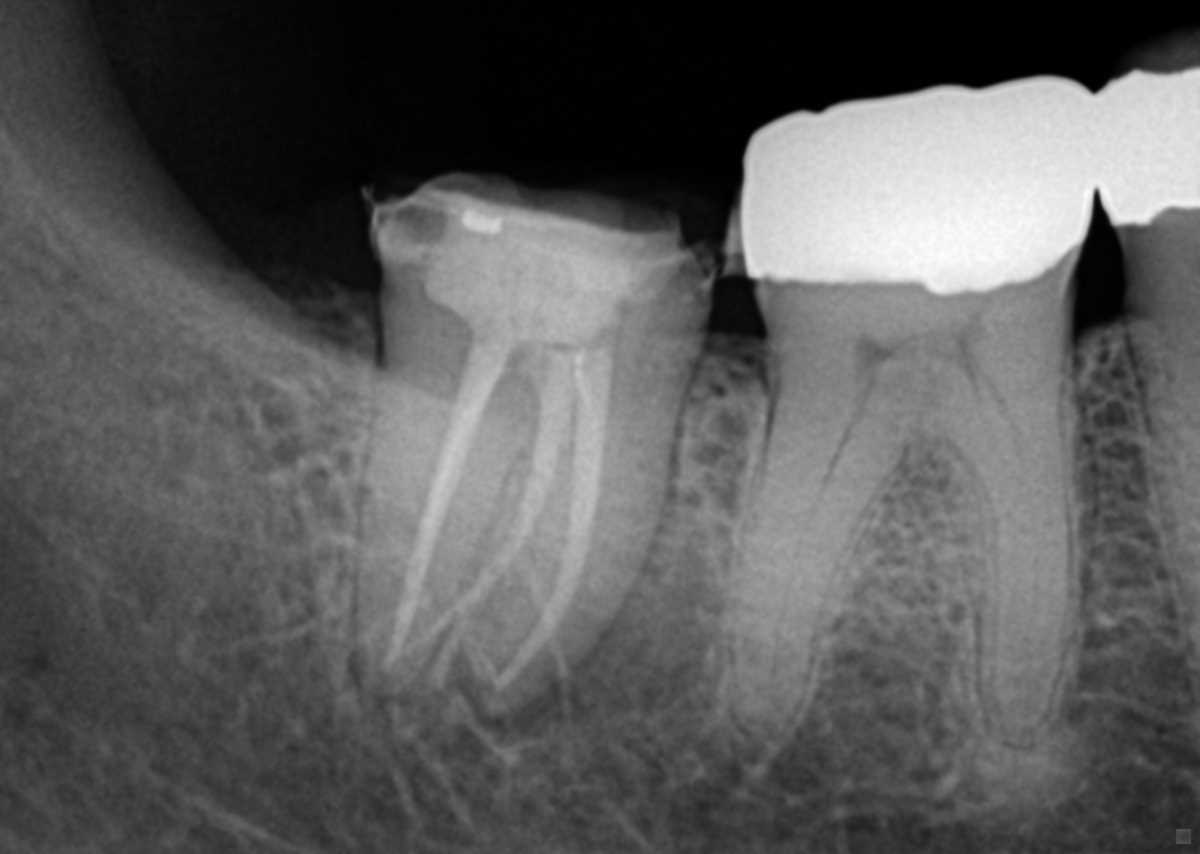Apical Lesion: (481, 539, 715, 743)
Distal Canal: (776, 421, 858, 660)
Distal Root: (355, 347, 538, 690), (725, 400, 903, 738)
Main Root: (1123, 310, 1200, 649)
Mesial Canal: (466, 391, 685, 712), (1002, 412, 1030, 528)
Mesial Root: (963, 394, 1077, 736)
Root Canal Filling: (399, 381, 569, 657), (494, 353, 614, 686), (385, 341, 503, 669)
